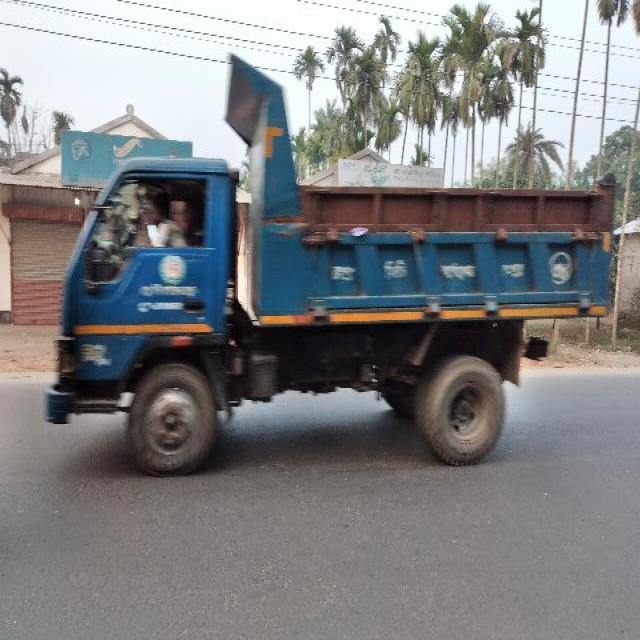vehicle: (48, 47, 615, 495)
